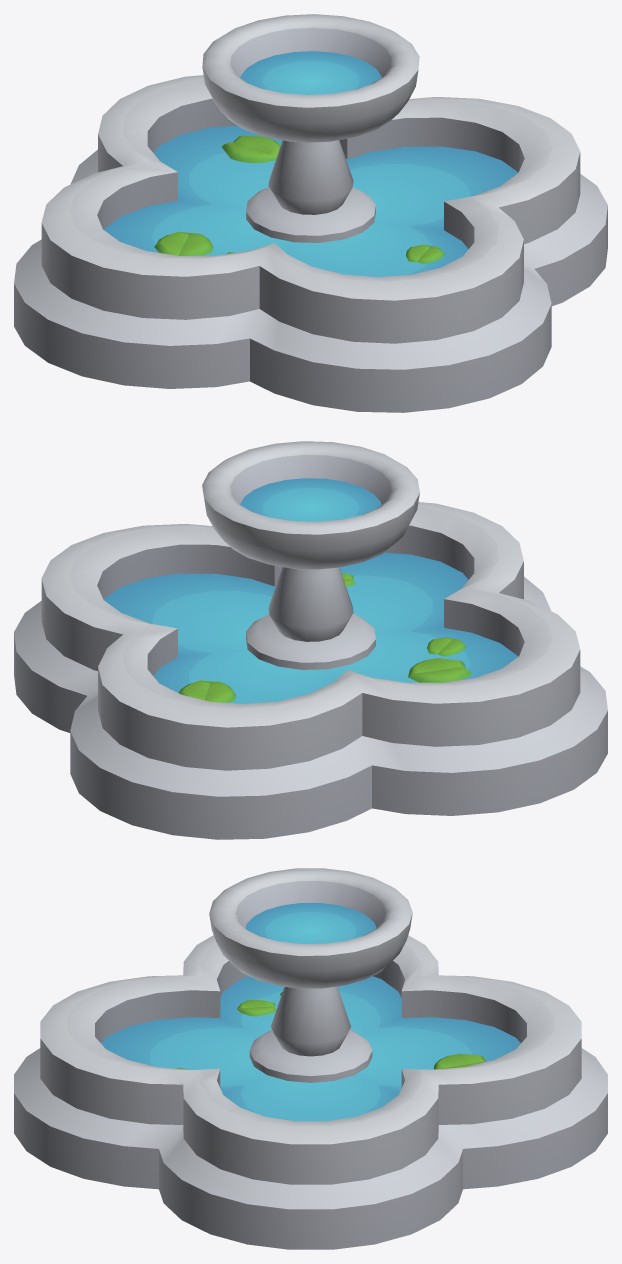
Rendered from fountain.fbx.
3 renders of one model, top to bottom at view 1: azimuth 30°, elevation 25°; view 2: azimuth 150°, elevation 25°; view 3: azimuth 270°, elevation 25°, orthographic. The views are drawn at different scales.
Parts seen in each view (by area): view 1: fountain, fountain_water, fountain_leaves; view 2: fountain, fountain_water, fountain_leaves; view 3: fountain, fountain_water, fountain_leaves.
Part boxes in pixels (x1=…): fountain: x1=14, y1=14, x2=607, y2=412; fountain_water: x1=103, y1=51, x2=518, y2=276; fountain_leaves: x1=154, y1=135, x2=444, y2=263; fountain: x1=14, y1=441, x2=607, y2=839; fountain_water: x1=103, y1=478, x2=518, y2=703; fountain_leaves: x1=179, y1=573, x2=472, y2=702; fountain: x1=14, y1=868, x2=607, y2=1249; fountain_water: x1=101, y1=903, x2=520, y2=1121; fountain_leaves: x1=177, y1=992, x2=485, y2=1069.
Size of the model in its own units: 4 by 1.6 by 4.
